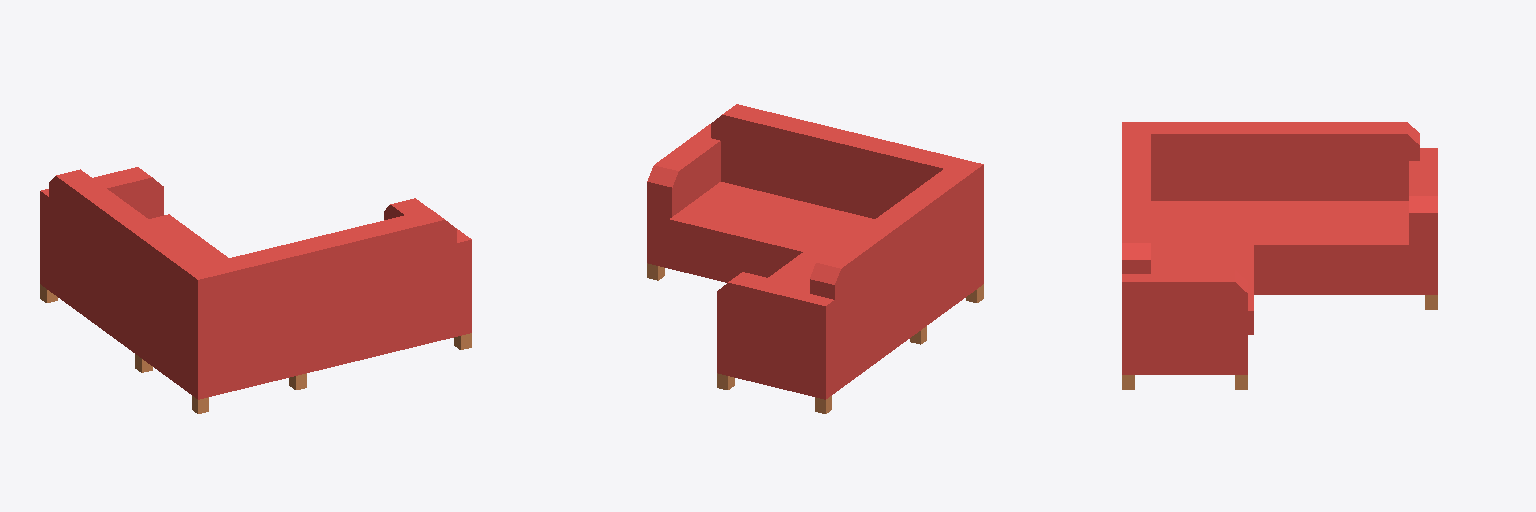
3 views of the same model, side by side, from view 1: azimuth 30°, elevation 25°; view 2: azimuth 150°, elevation 25°; view 3: azimuth 270°, elevation 25° (orthographic).
Parts seen in each view (by area): view 1: loungeSofaCorner; view 2: loungeSofaCorner; view 3: loungeSofaCorner.
Part boxes in pixels (bbox=[...]): loungeSofaCorner: bbox=[40, 167, 471, 413]; loungeSofaCorner: bbox=[647, 104, 983, 413]; loungeSofaCorner: bbox=[1122, 122, 1437, 389].
Size of the model in its own units: 1 by 0.4694 by 1.